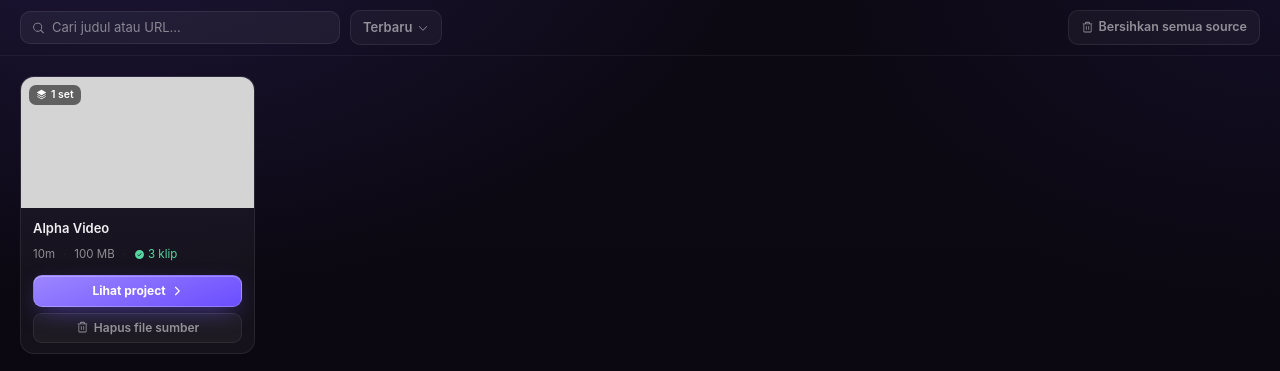
Scenario: LibraryMain › opens the sort menu and picks a sort option
What coordinates should you click on to do the following:
click the button "Terbaru"
I would click on:
 (396, 28)
Its box is [350,10,442,45].
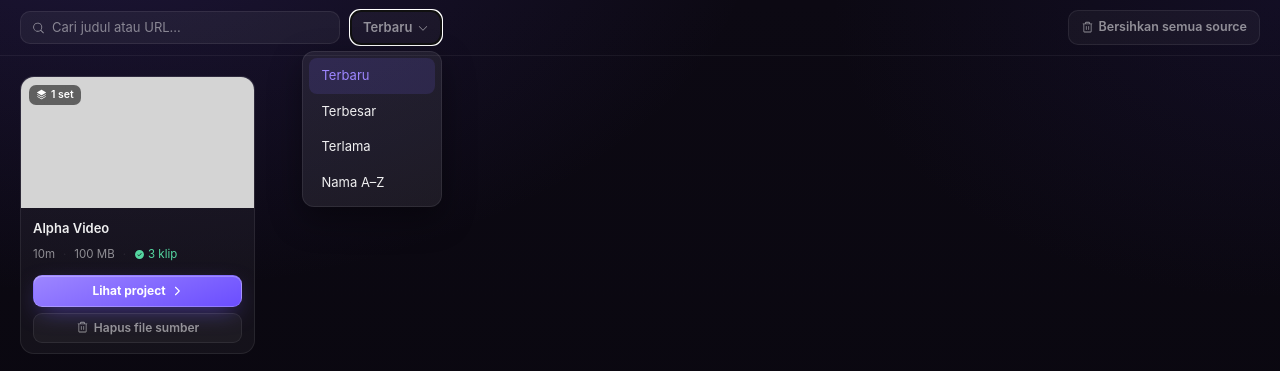
What coordinates should you click on to do the following:
click the button "Terbesar"
I would click on:
 (372, 112)
Its box is [310,94,436,129].
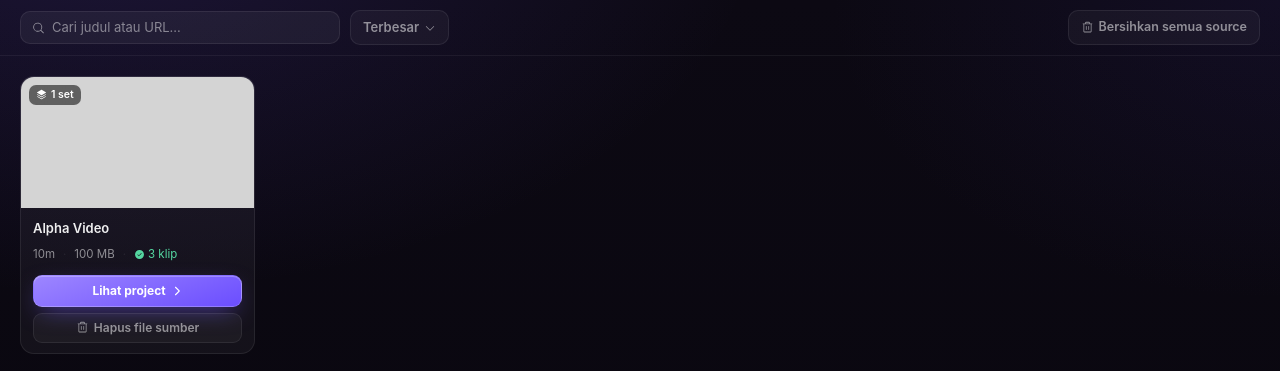
Expected: the button "Terbesar" is shown, [350,10,449,45]
